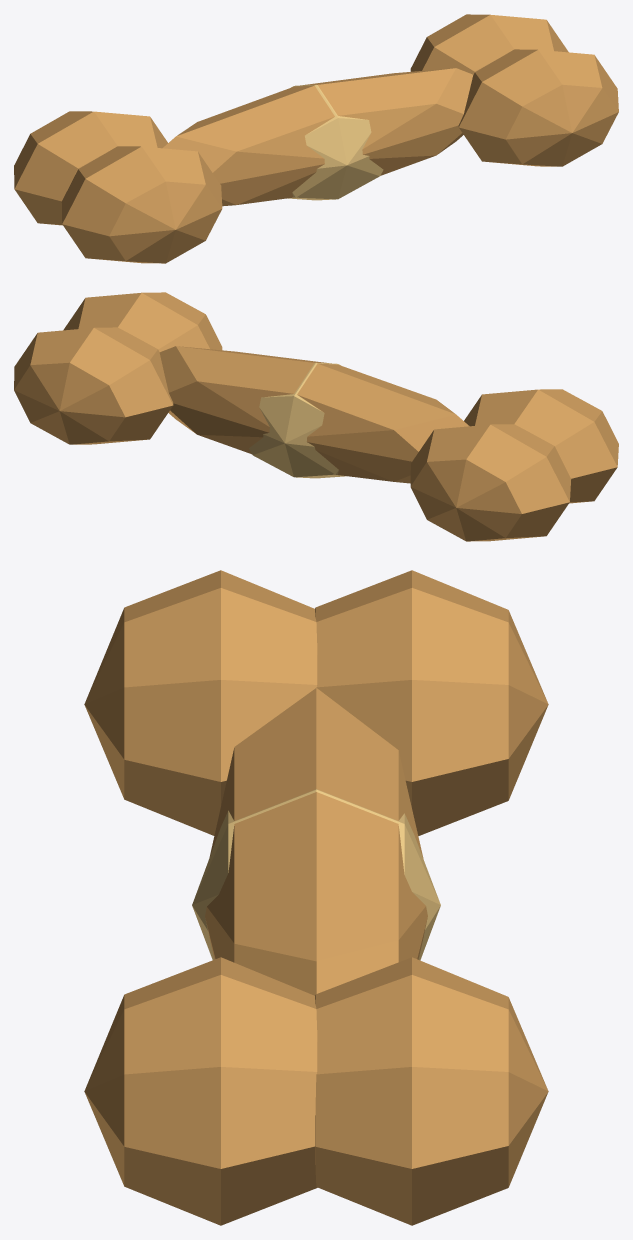
Rendered from chew_toy.glb.
3 renders of one model, top to bottom at view 1: azimuth 30°, elevation 25°; view 2: azimuth 150°, elevation 25°; view 3: azimuth 270°, elevation 25°, orthographic. The views are drawn at different scales.
Parts seen in each view (by area): view 1: chew_toy; view 2: chew_toy; view 3: chew_toy.
Part boxes in pixels (x1,y1,x2,y2): chew_toy: (14, 14, 618, 263); chew_toy: (14, 292, 618, 541); chew_toy: (84, 570, 548, 1225).
Size of the model in its own units: 0.1597 by 0.0329 by 0.0578.
